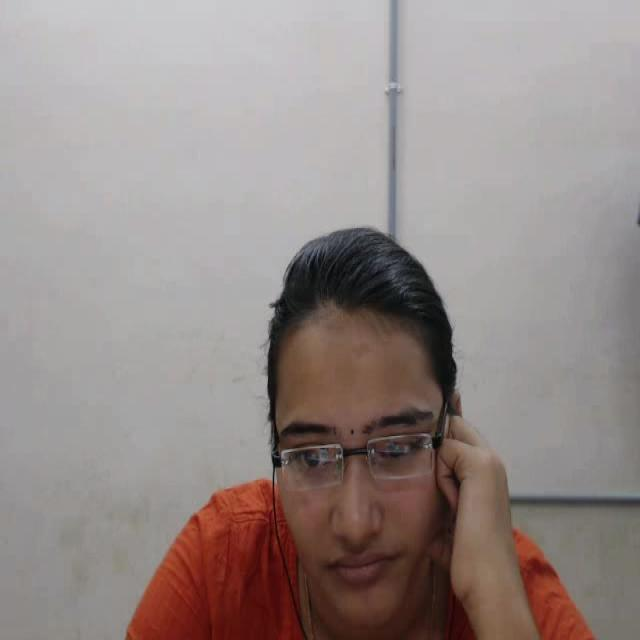Bored: (220, 190, 522, 640)
